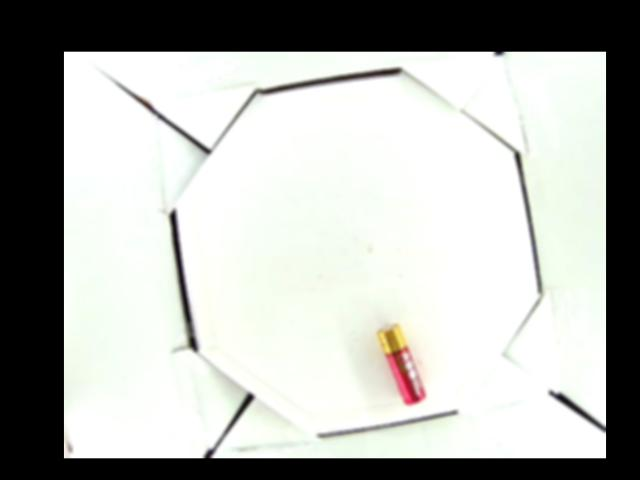Battery: (378, 324, 428, 407)
